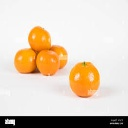orange: (68, 60, 101, 98), (28, 26, 52, 55), (13, 47, 37, 73), (37, 50, 60, 77)
